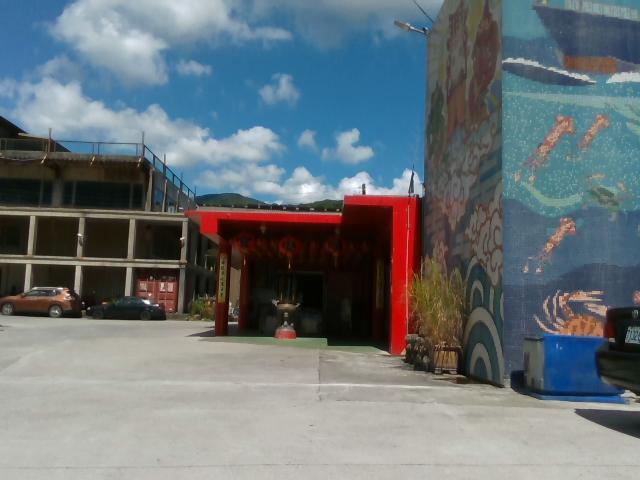pollute: (229, 301, 239, 323)
